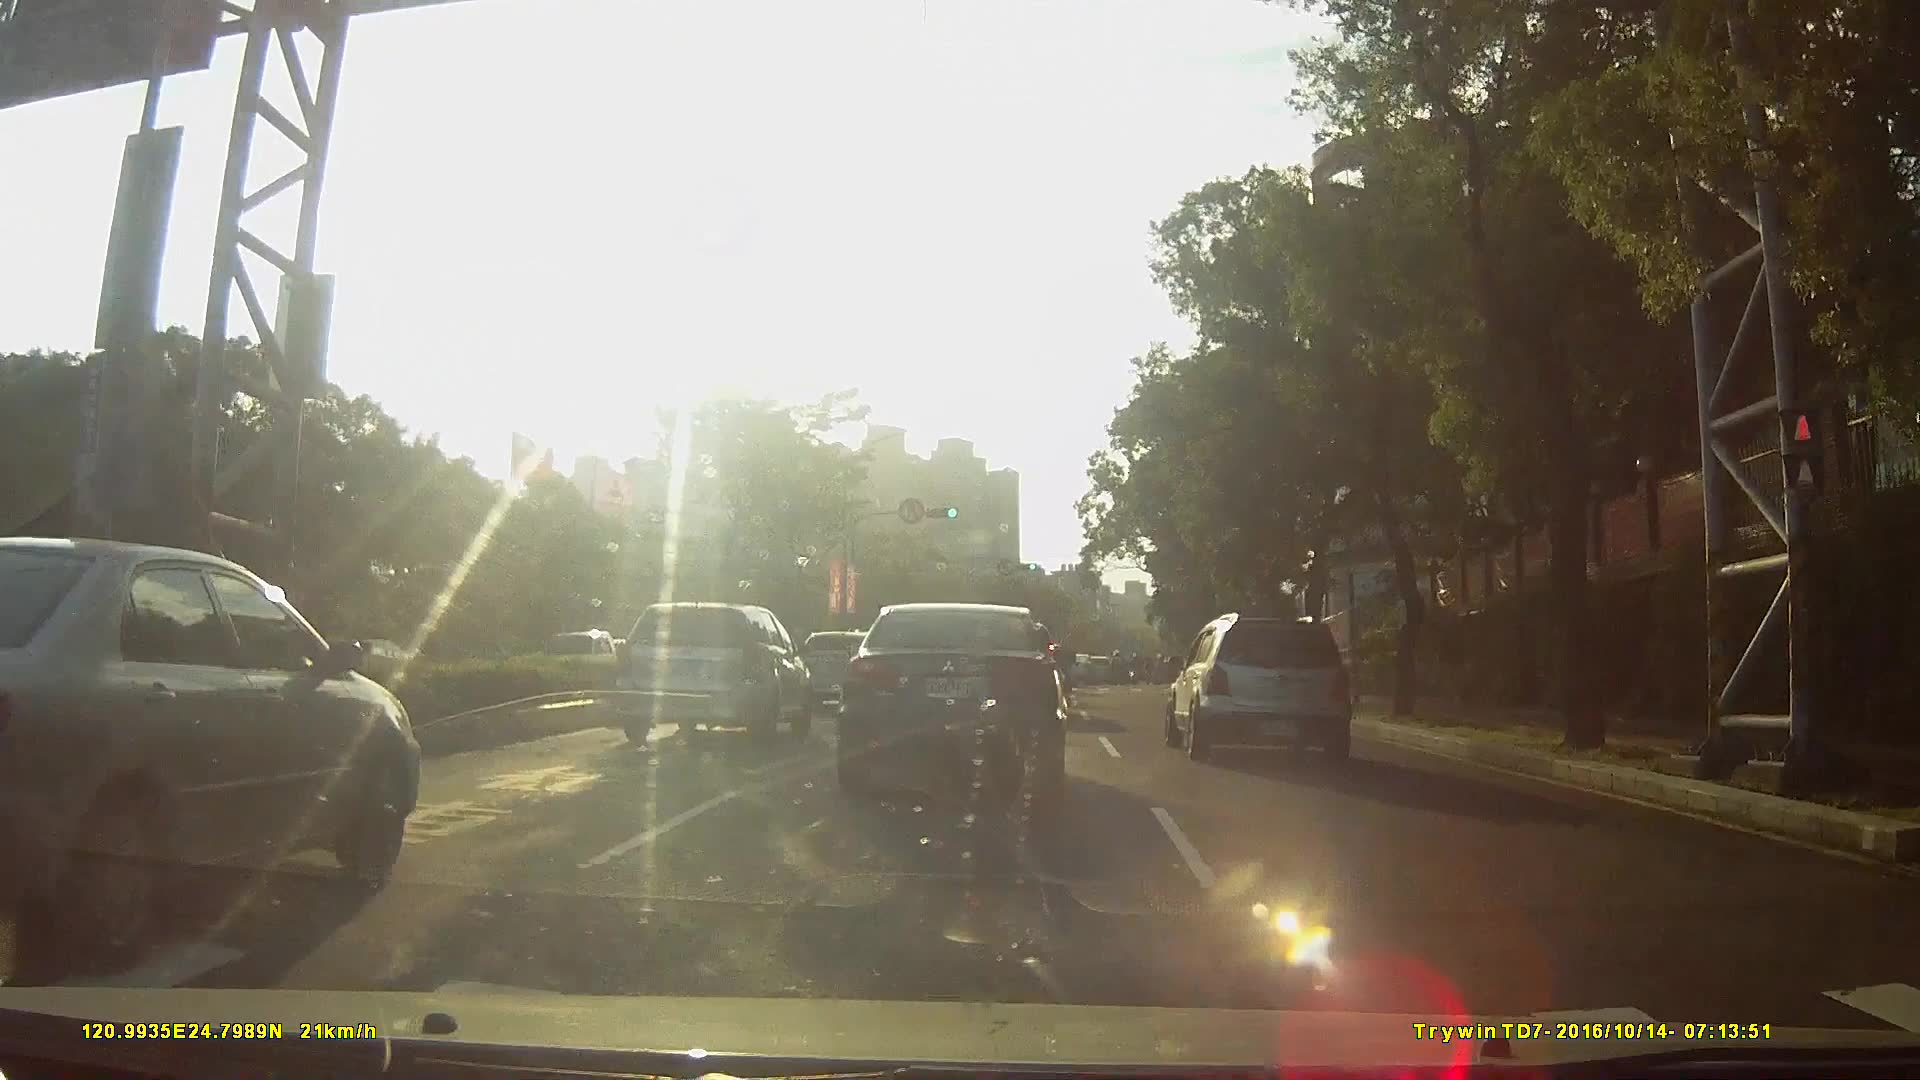vehicle: (1, 529, 435, 965), (837, 597, 1065, 804), (1159, 605, 1370, 760), (609, 600, 814, 745), (1059, 651, 1095, 684), (1080, 653, 1114, 684)
